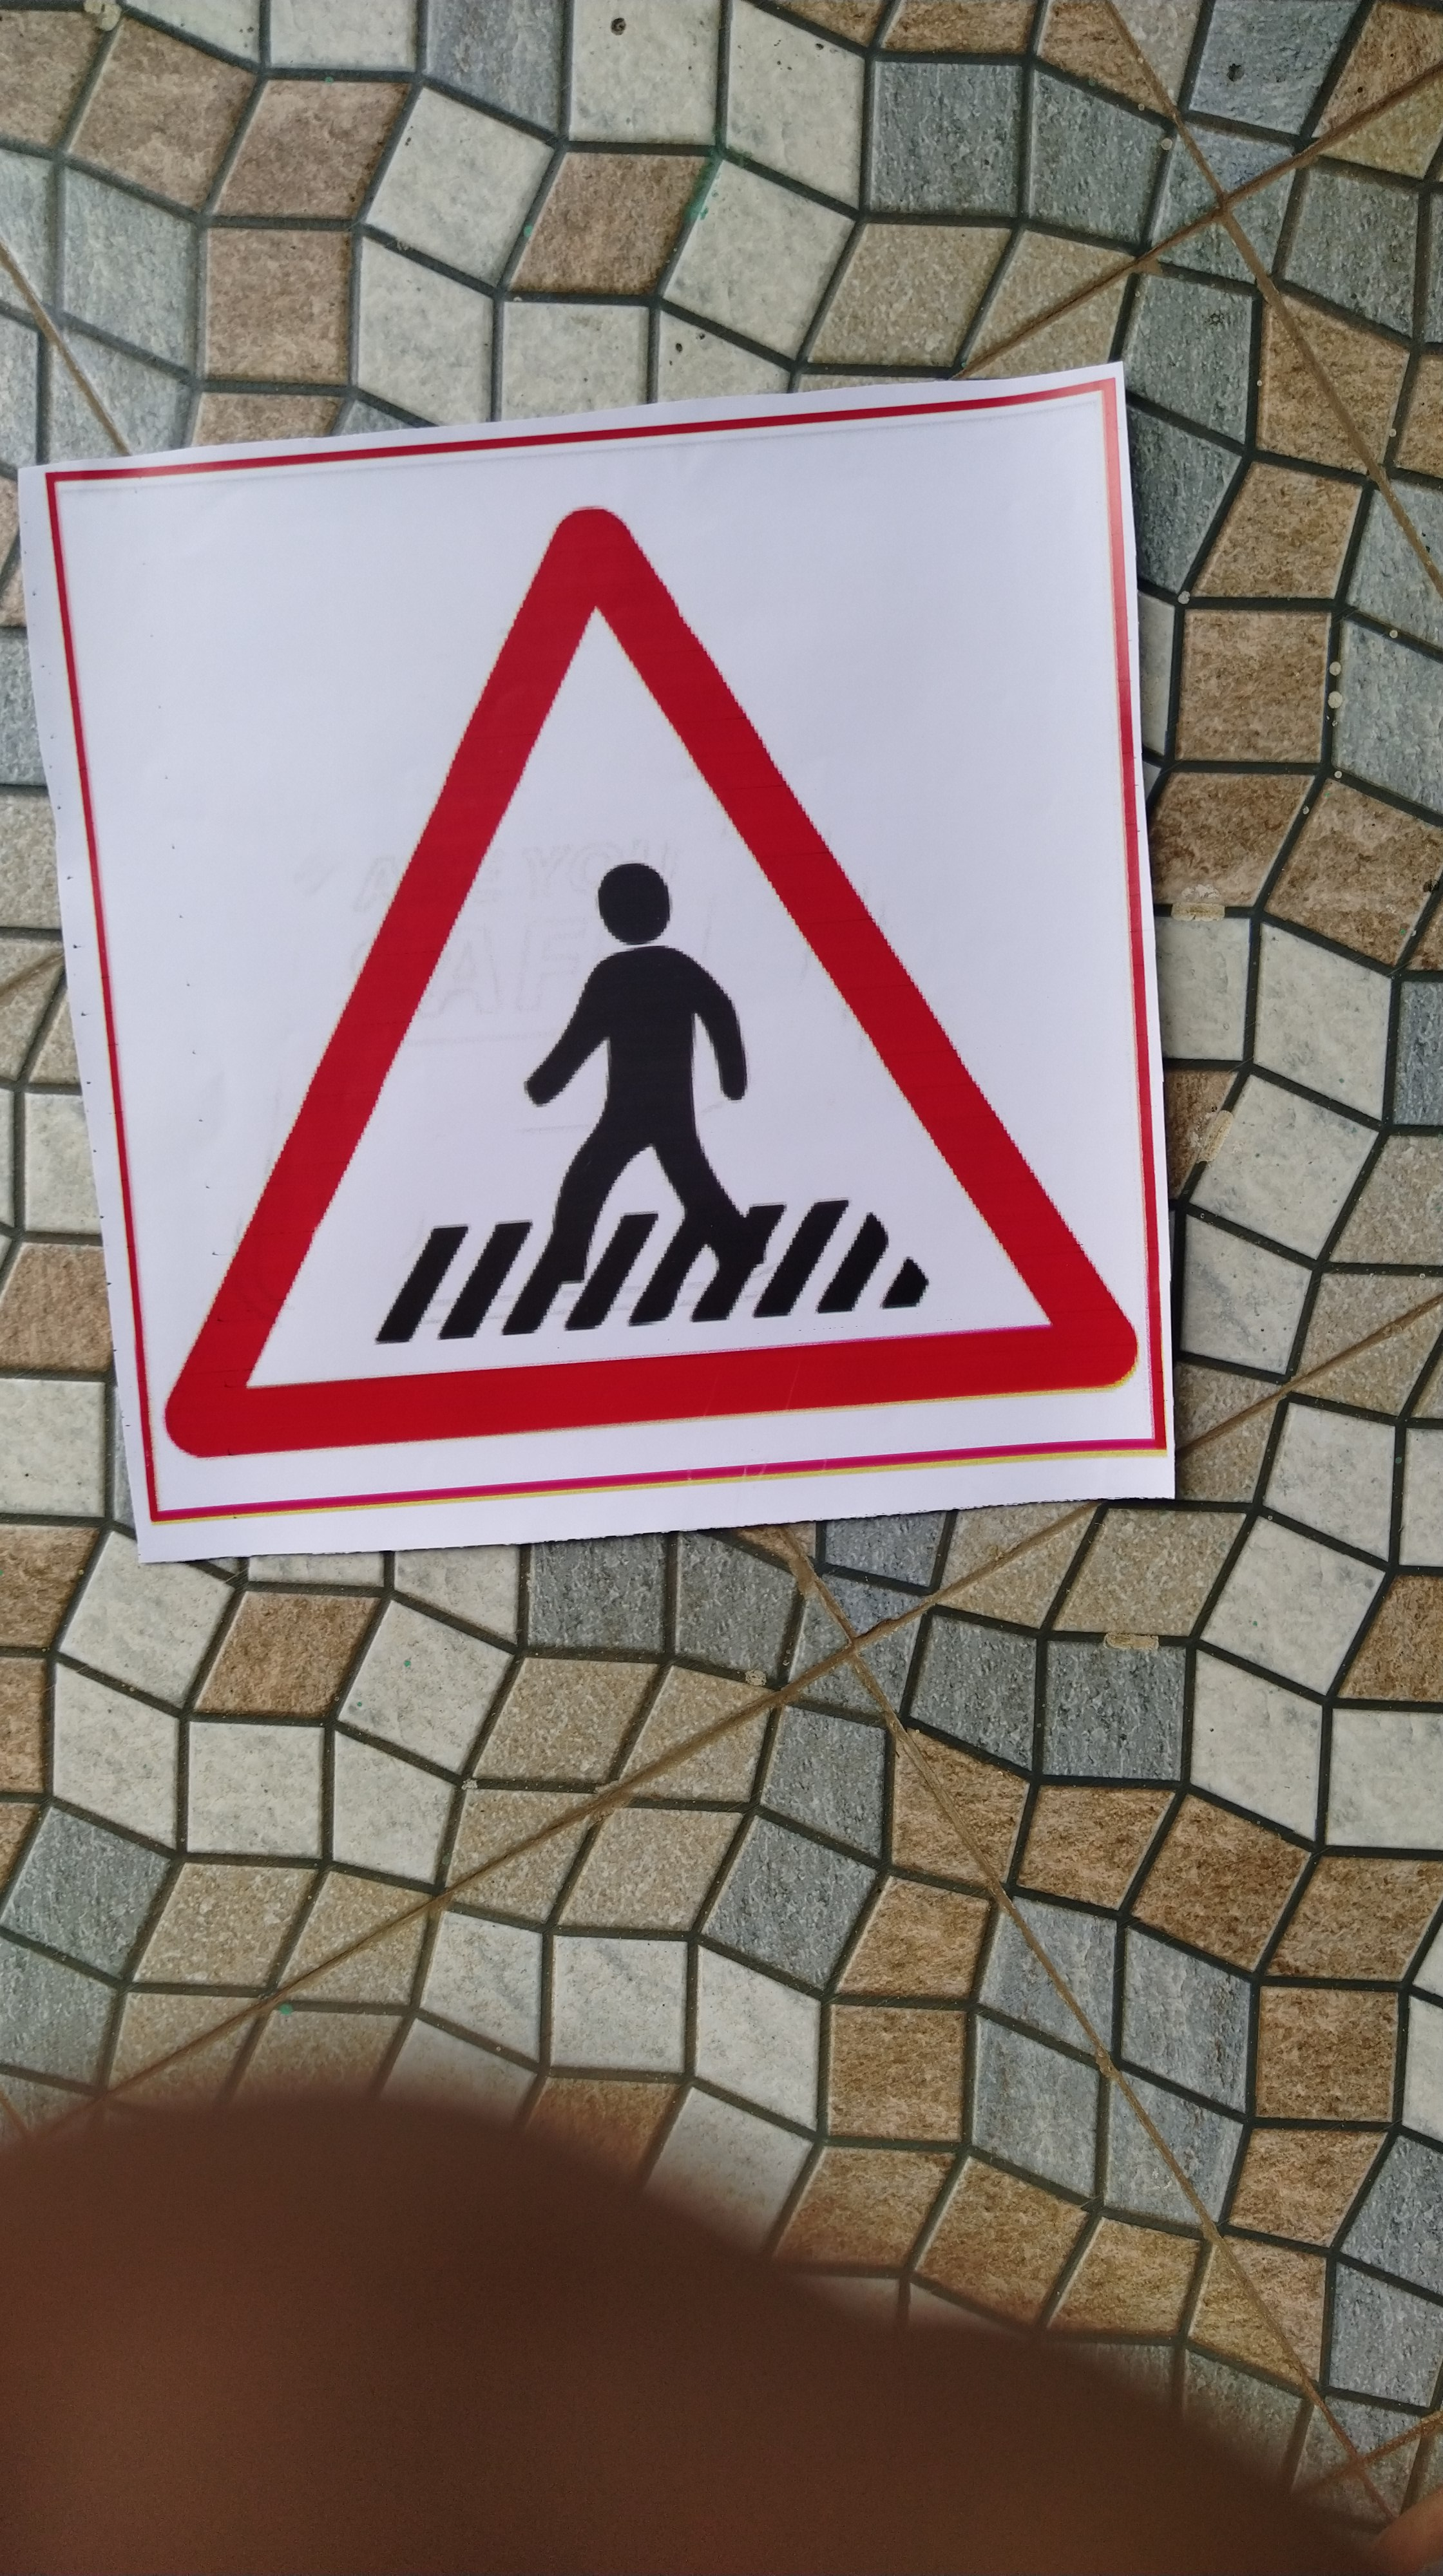pedestrain crossing: (57, 471, 1160, 1484)
